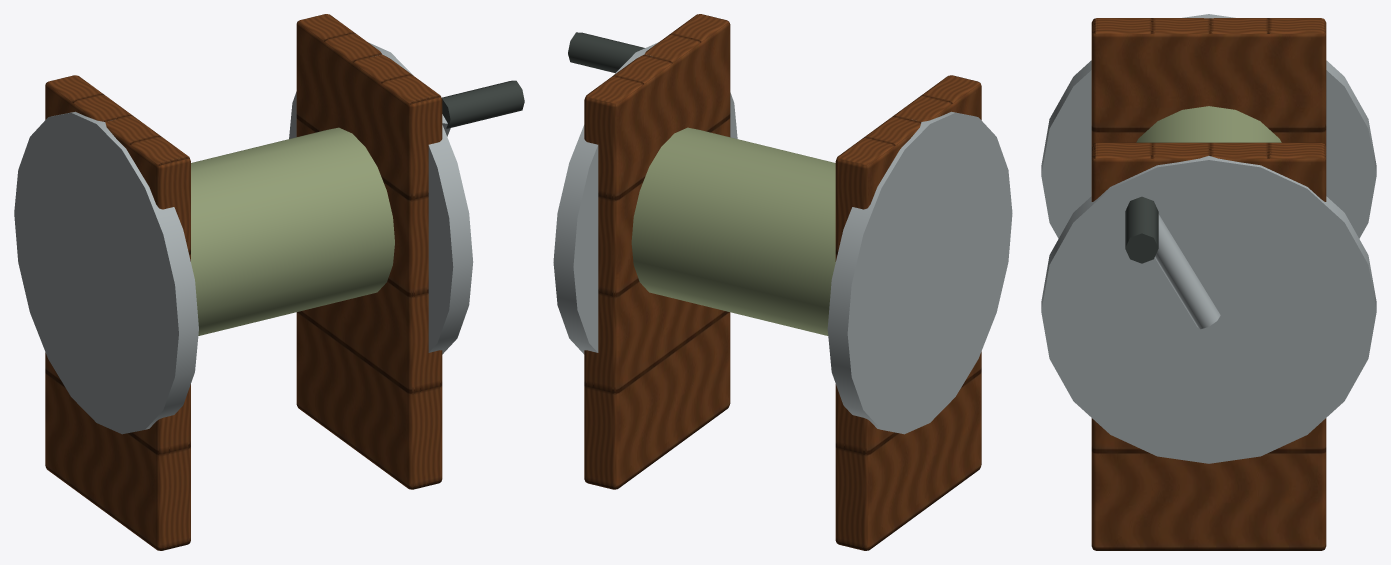
File: flooded-and-coastal-survival-crossing-handline-reel-88c0fa3a__20097.glb
The picture shows the model from 3 angles, left to right: view 1: azimuth 30°, elevation 25°; view 2: azimuth 150°, elevation 25°; view 3: azimuth 270°, elevation 25°; orthographic projection.
Visible parts, largest first — view 1: crossing-handline-reel; view 2: crossing-handline-reel; view 3: crossing-handline-reel.
Part boxes in pixels (left/top/right/bottom): crossing-handline-reel: left=14, top=14, right=524, bottom=550; crossing-handline-reel: left=553, top=14, right=1012, bottom=550; crossing-handline-reel: left=1041, top=14, right=1376, bottom=550.
Bounding box in the file's own units: 0.6775 × 0.65 × 0.5.
Materials: 4 (1 with a texture image).
